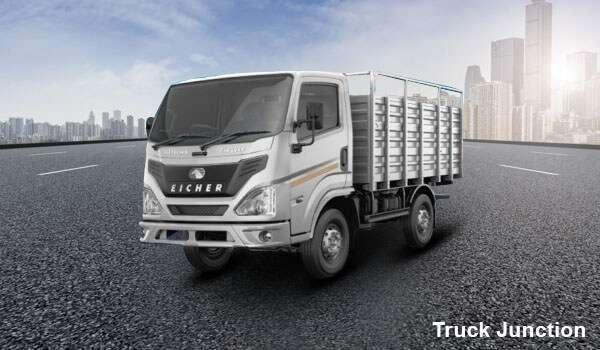truck: (139, 69, 463, 280)
